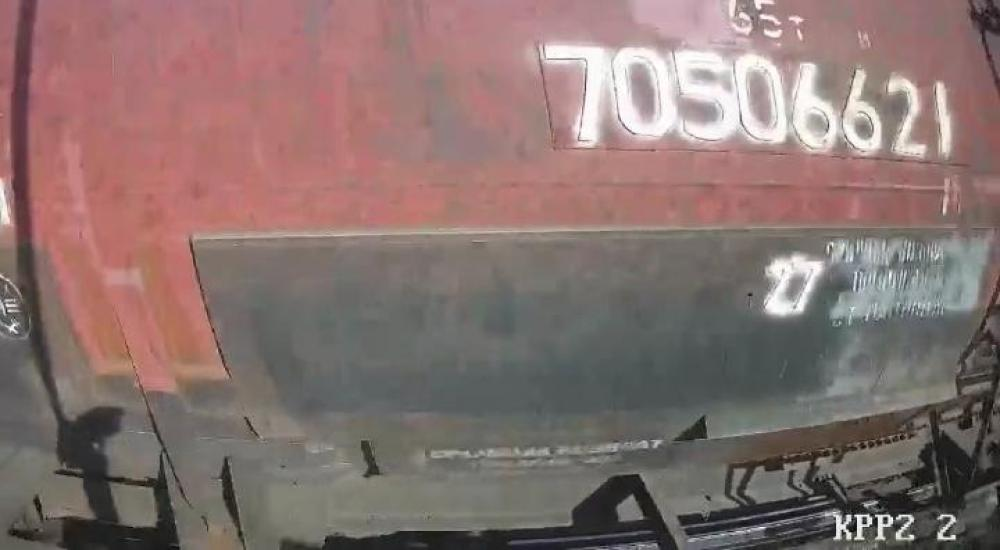Wagon-number: (540, 44, 958, 166)
